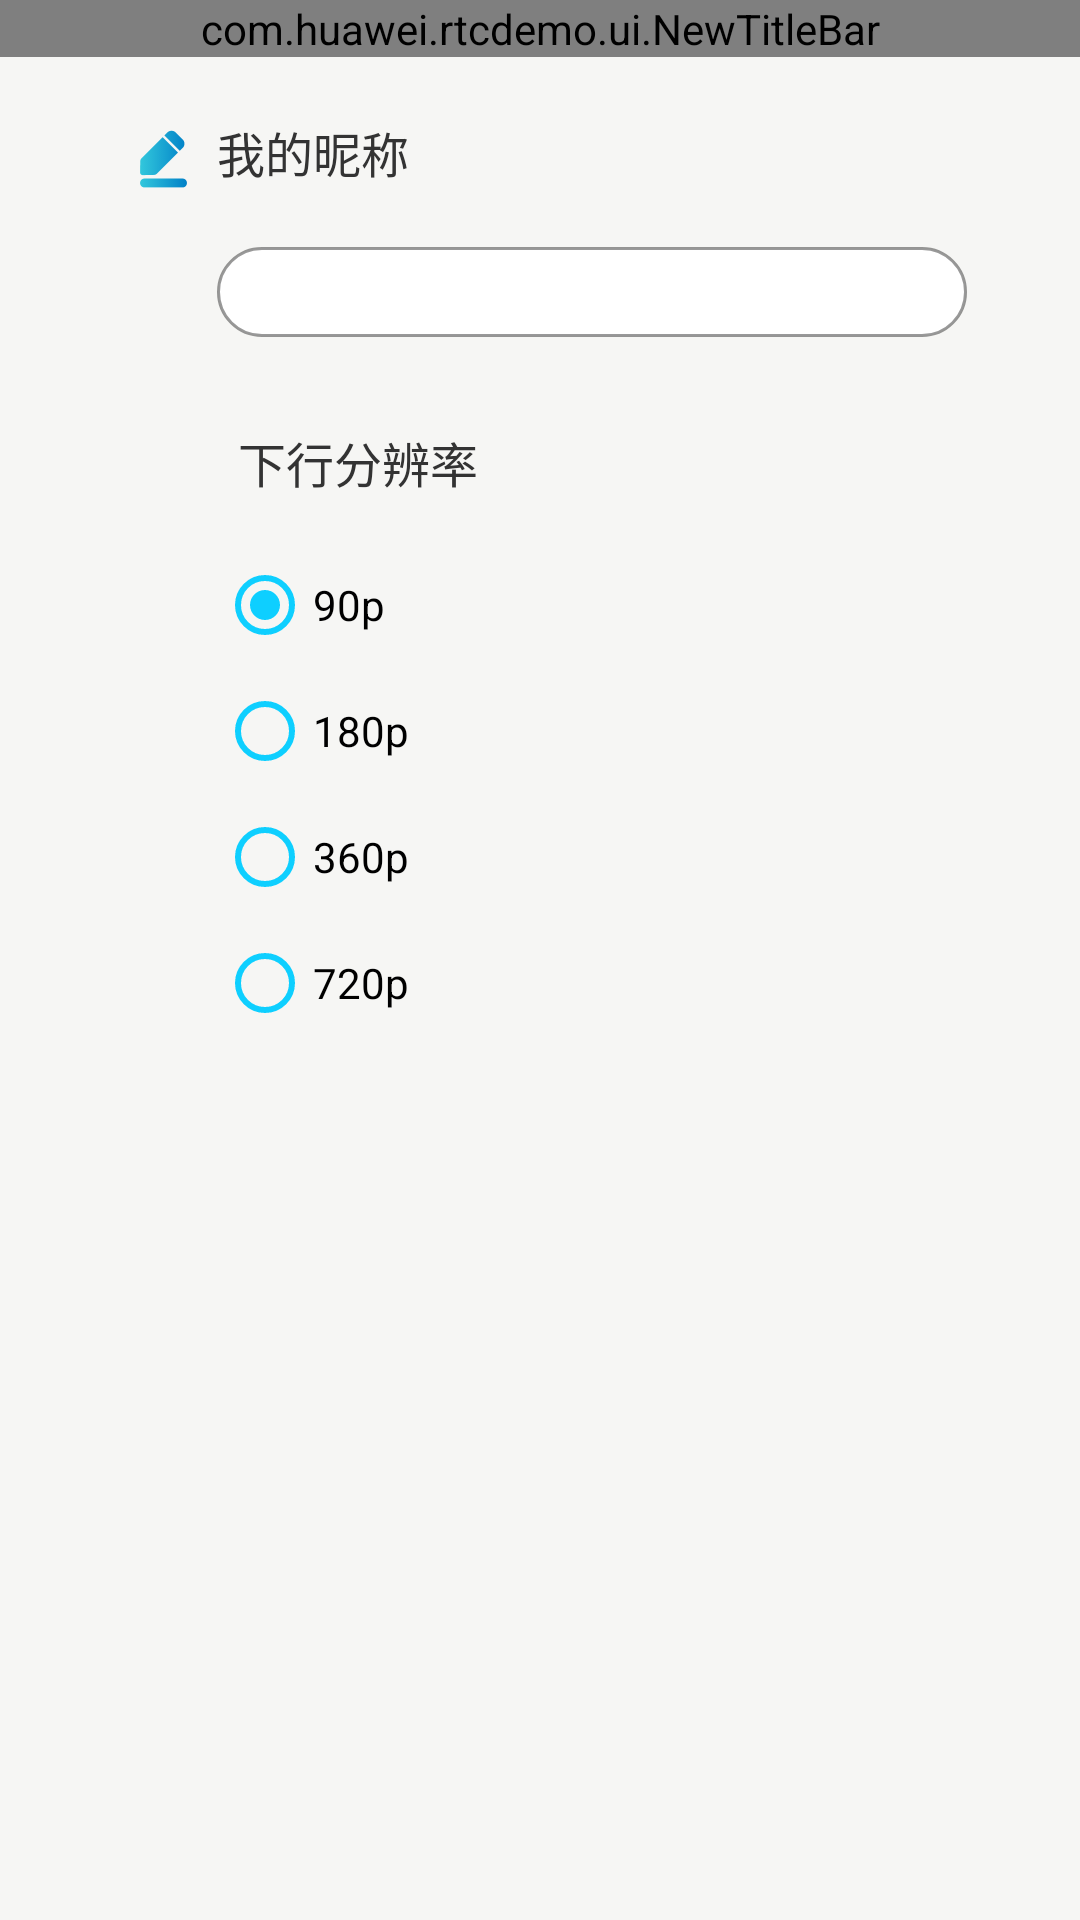

Locate icon controls on the screen. Image size 1080px×1920px, boxes as (x1, y1, x2, y2).
setting nickname: (140, 130, 187, 188)
